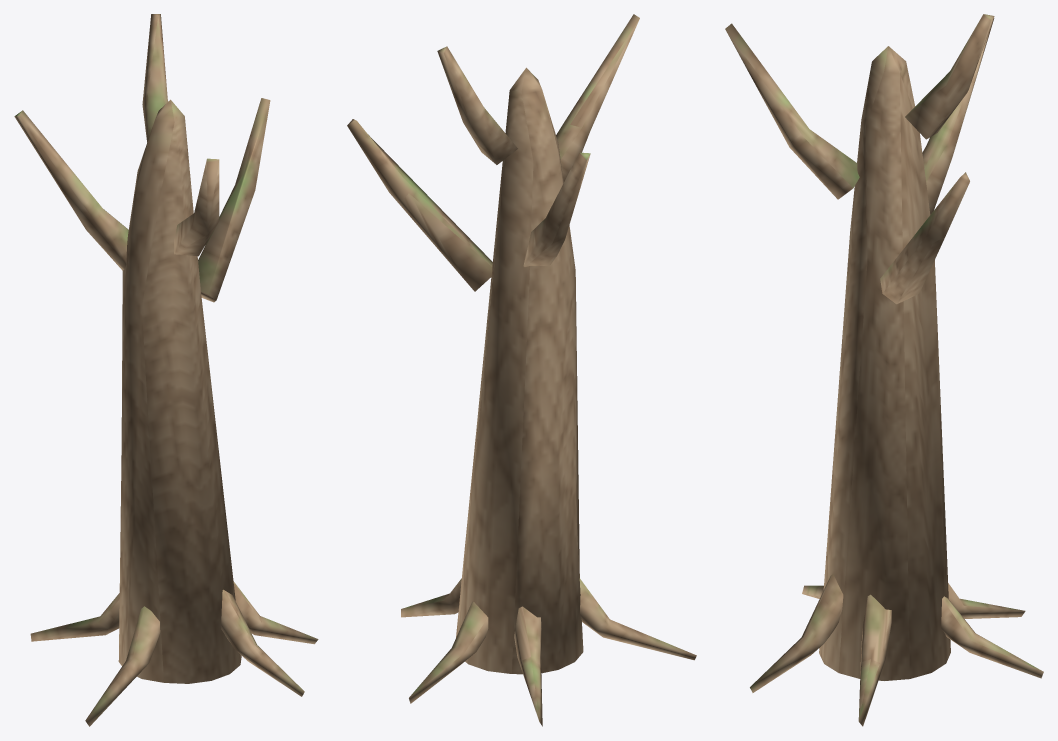
File: oak_trunk_lod1.gltf
3 renders of one model, left to right at view 1: azimuth 30°, elevation 25°; view 2: azimuth 150°, elevation 25°; view 3: azimuth 270°, elevation 25°, orthographic. The views are drawn at different scales.
Parts seen in each view (by area): view 1: oak_trunk_LOD1; view 2: oak_trunk_LOD1; view 3: oak_trunk_LOD1.
Part boxes in pixels (x1,y1,x2,y2): oak_trunk_LOD1: [14, 14, 318, 726]; oak_trunk_LOD1: [347, 14, 696, 726]; oak_trunk_LOD1: [725, 14, 1043, 726].
Bounding box in the file's own units: 3.14 × 7.12 × 3.12.
1 material, 1 textured.
